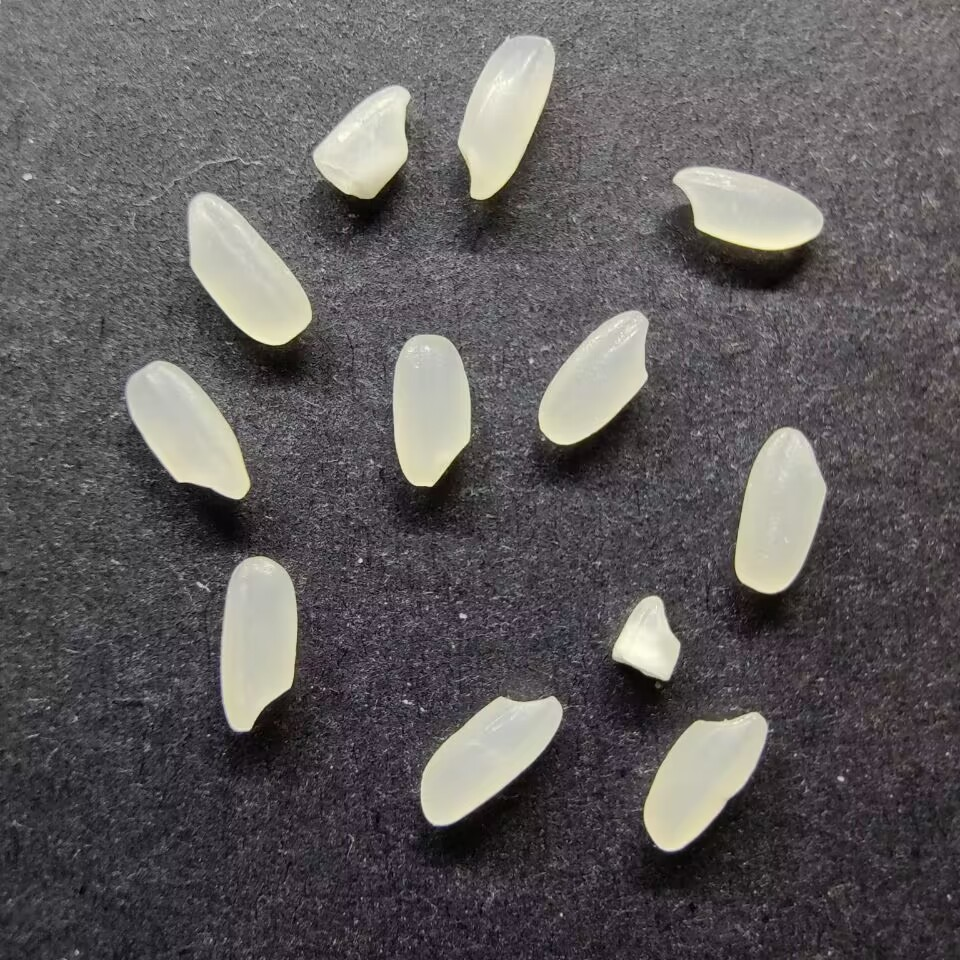broken: (309, 82, 414, 202), (609, 593, 683, 684)
rice: (415, 694, 564, 830), (184, 191, 313, 347), (640, 708, 770, 853), (123, 359, 253, 500), (454, 33, 557, 201), (731, 424, 827, 595), (536, 309, 651, 447), (218, 554, 300, 736), (390, 331, 475, 491), (672, 165, 827, 252)
